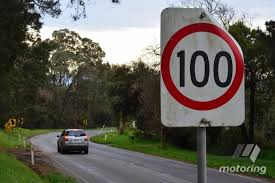Speed_limit_100km: (160, 23, 243, 111)
car: (55, 128, 89, 155)
